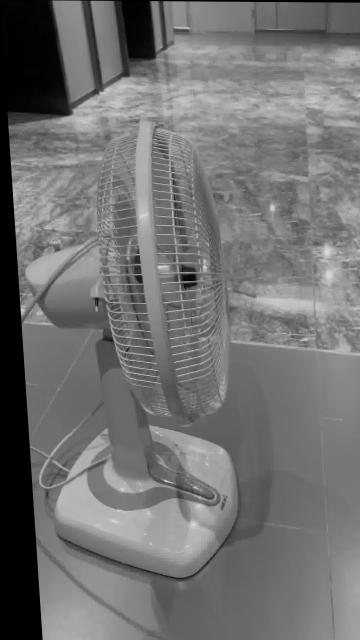Fan: (21, 120, 232, 581)
